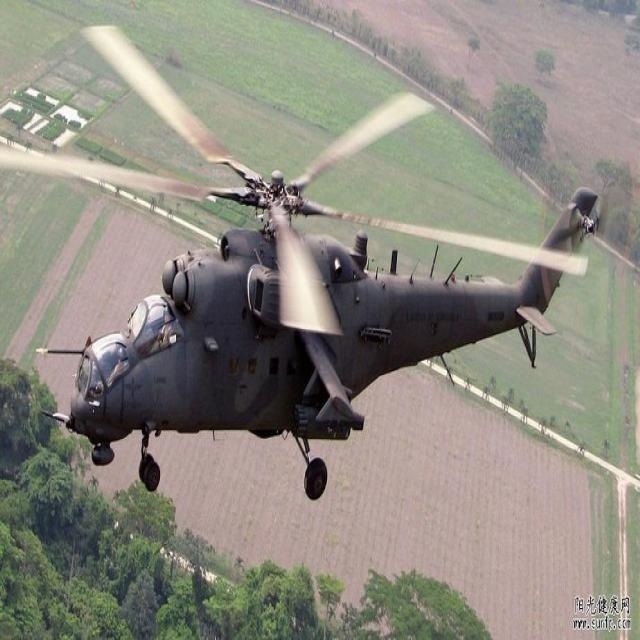MIL_HELO: (0, 9, 640, 505)
